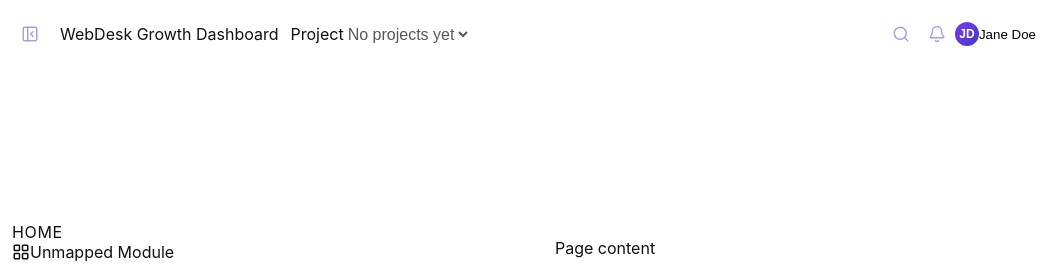
Test: AppShell › sidebar collapse toggle › falls back to the module's own monogram (not a shared generic icon) in icon-only mode when it has no mapped iconReference
The width and height of the screenshot is (1048, 279).
Click the button named "Collapse sidebar" at x=30, y=34, box [12,16,48,52]
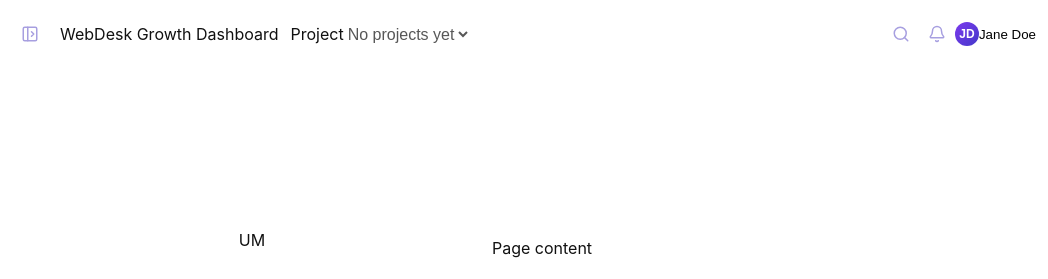
Now the link with aria-label "Unmapped Module" reads "UM", box [239,230,265,250]
